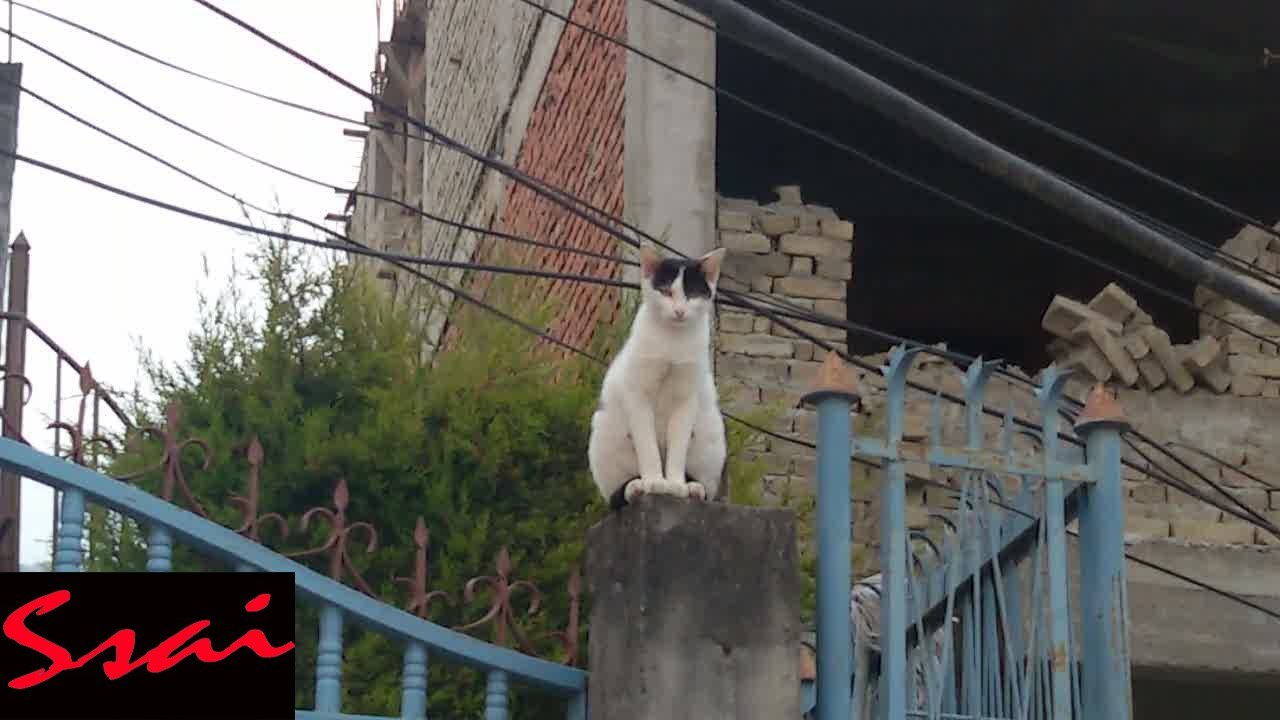cat: (574, 222, 770, 540)
